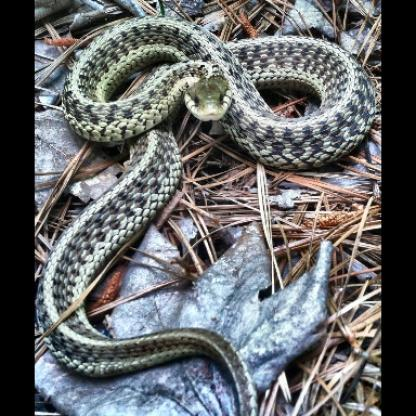Snake: (41, 15, 374, 415)
